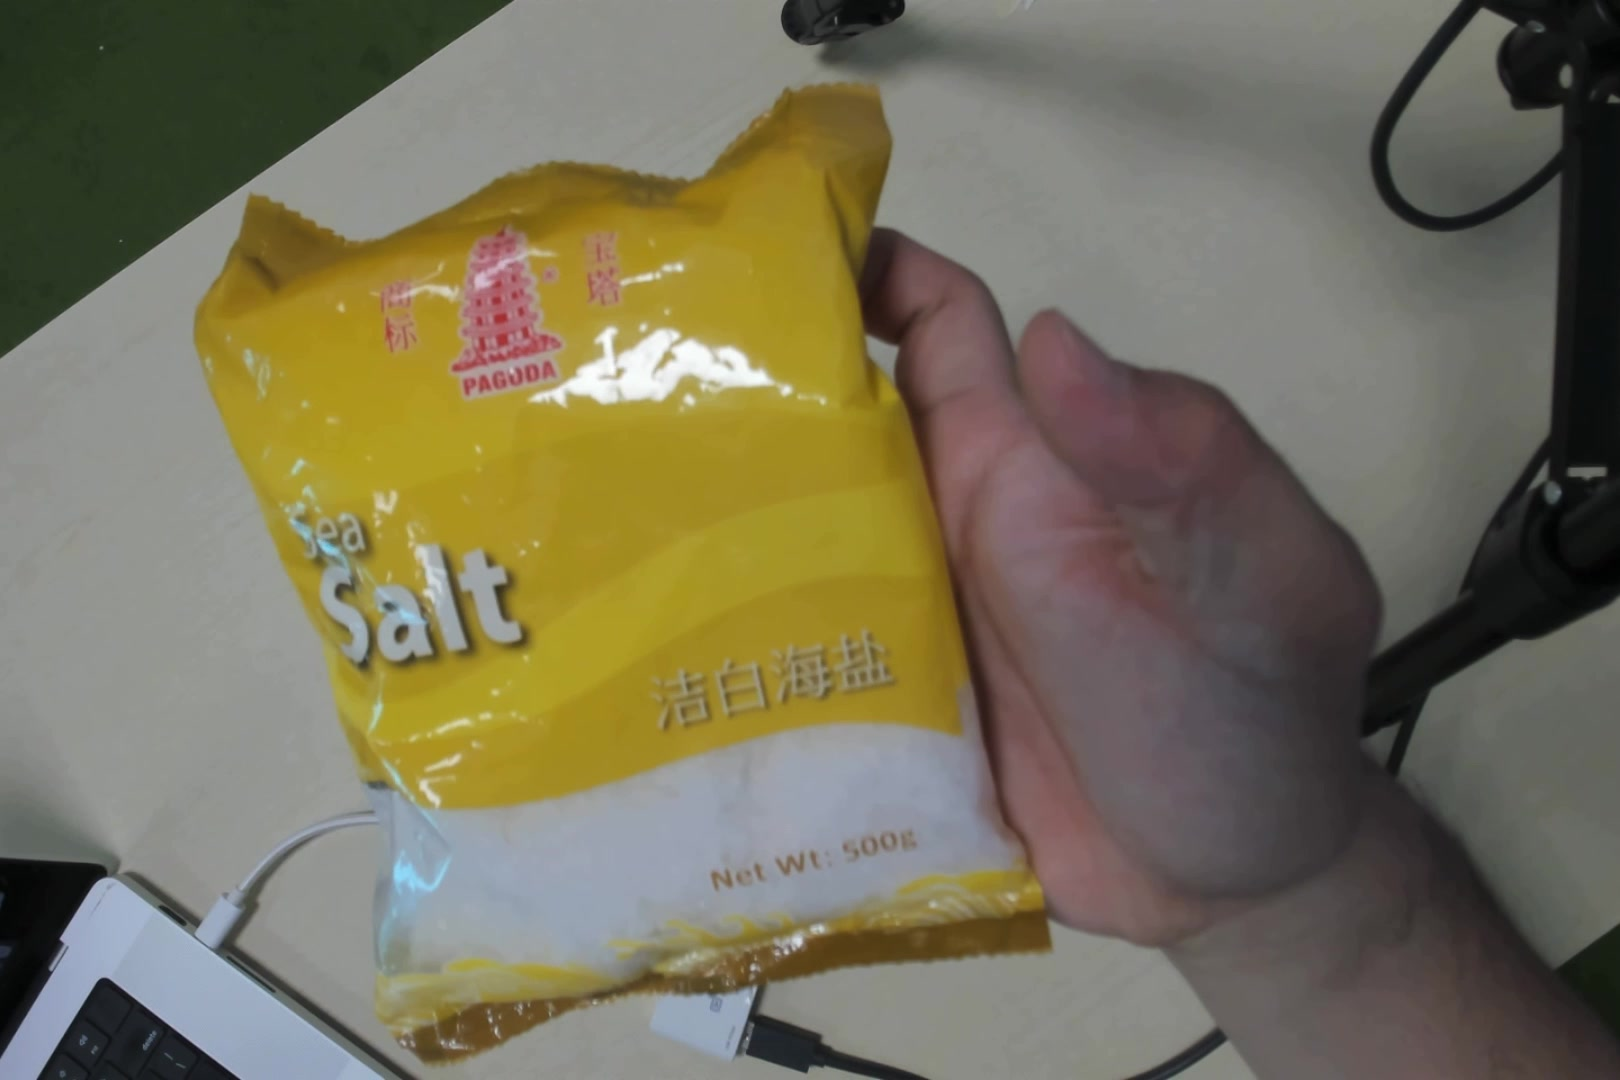Salt_500-599g_Halal_NonHealthy: (268, 192, 997, 976)
